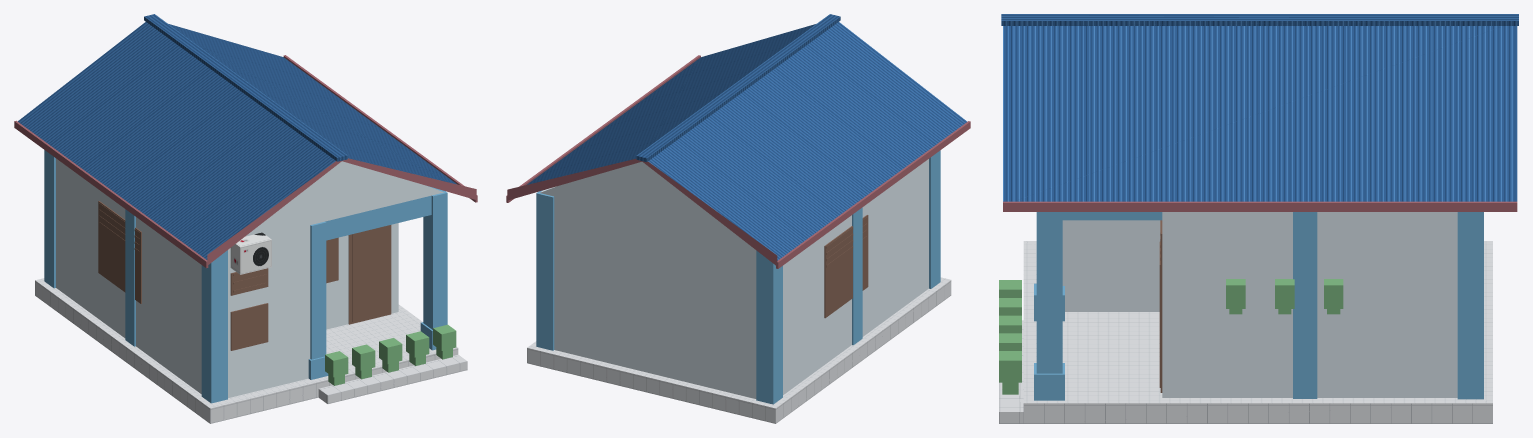
File: gedung_pmr.glb
3 views of the same model, side by side, from view 1: azimuth 30°, elevation 25°; view 2: azimuth 150°, elevation 25°; view 3: azimuth 270°, elevation 25° (orthographic). The views are drawn at different scales.
Visible parts, largest first — view 1: Atap_Seng_Biru, Dinding_Biru_Muda, Pilar_Lis_Biru_Tua, Lantai_Keramik_Pondasi, Kusen_Kayu_Coklat, Lisplang_Merah_Marun, Pot_Tanaman_Hias, AC_Outdoor_LG; view 2: Dinding_Biru_Muda, Atap_Seng_Biru, Pilar_Lis_Biru_Tua, Lantai_Keramik_Pondasi, Lisplang_Merah_Marun, Kusen_Kayu_Coklat; view 3: Atap_Seng_Biru, Dinding_Biru_Muda, Lantai_Keramik_Pondasi, Pilar_Lis_Biru_Tua, Lisplang_Merah_Marun, Pot_Tanaman_Hias, Kusen_Kayu_Coklat.
Part boxes in pixels (bbox=[...]): Atap_Seng_Biru: bbox=[18, 14, 456, 259]; Dinding_Biru_Muda: bbox=[56, 158, 443, 397]; Pilar_Lis_Biru_Tua: bbox=[44, 150, 447, 403]; Lantai_Keramik_Pondasi: bbox=[35, 278, 467, 423]; Kusen_Kayu_Coklat: bbox=[98, 201, 391, 350]; Lisplang_Merah_Marun: bbox=[14, 55, 477, 268]; Pot_Tanaman_Hias: bbox=[325, 324, 456, 385]; AC_Outdoor_LG: bbox=[230, 232, 271, 274]; Dinding_Biru_Muda: bbox=[540, 159, 928, 398]; Atap_Seng_Biru: bbox=[527, 14, 967, 260]; Pilar_Lis_Biru_Tua: bbox=[536, 150, 940, 404]; Lantai_Keramik_Pondasi: bbox=[527, 277, 951, 423]; Lisplang_Merah_Marun: bbox=[506, 55, 970, 268]; Kusen_Kayu_Coklat: bbox=[824, 215, 868, 318]; Atap_Seng_Biru: bbox=[1001, 14, 1518, 201]; Dinding_Biru_Muda: bbox=[1062, 212, 1457, 397]; Lantai_Keramik_Pondasi: bbox=[999, 241, 1492, 423]; Pilar_Lis_Biru_Tua: bbox=[1034, 212, 1483, 400]; Lisplang_Merah_Marun: bbox=[1003, 201, 1517, 211]; Pot_Tanaman_Hias: bbox=[999, 279, 1343, 394]; Kusen_Kayu_Coklat: bbox=[1159, 220, 1162, 392].
Size of the model in its own units: 5.14 by 4.4 by 6.37.
Materials: 12 (4 with a texture image).
